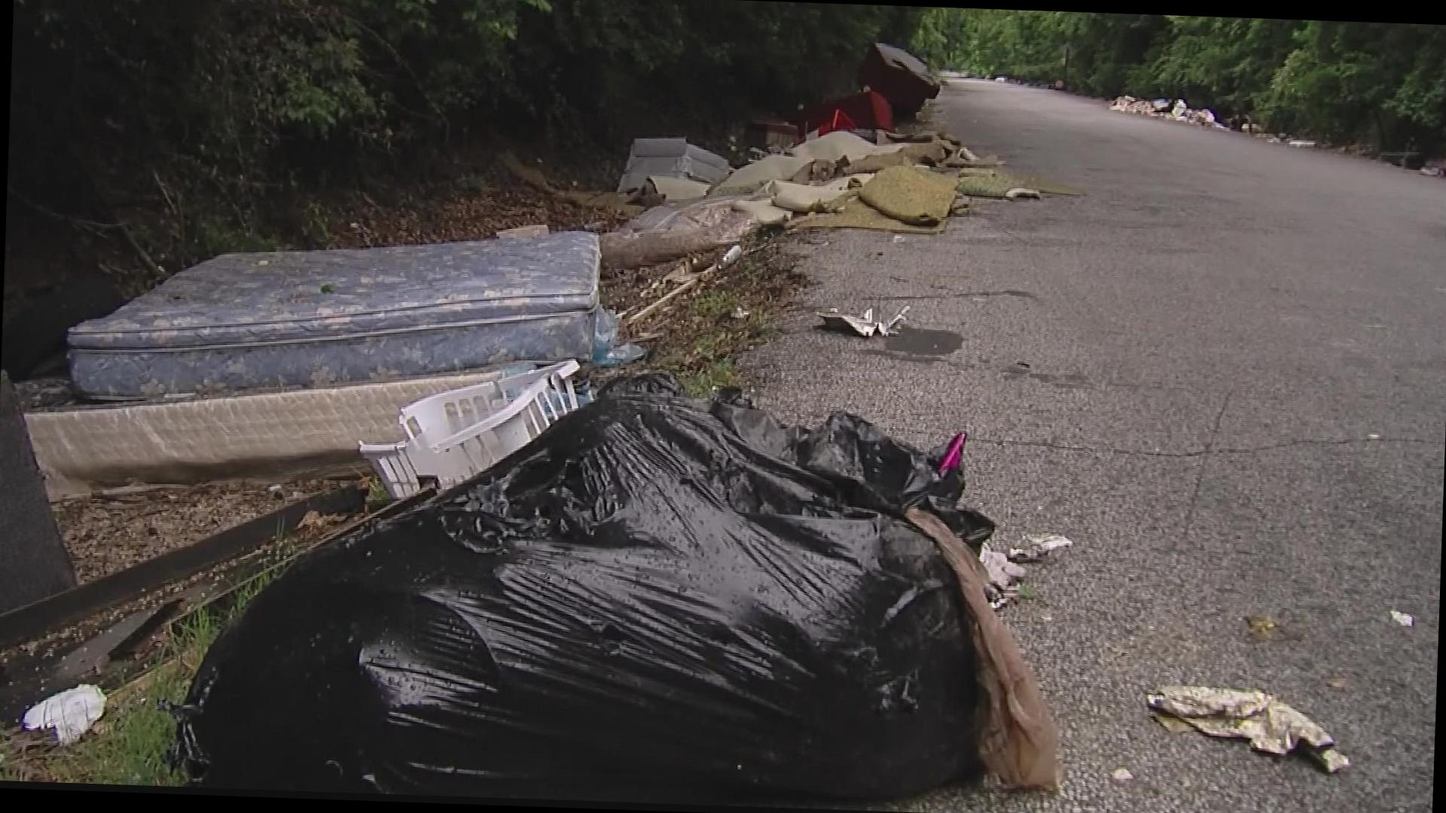road: (741, 78, 1446, 813)
trash: (180, 376, 993, 803), (599, 197, 789, 268), (618, 136, 729, 192), (859, 42, 941, 114), (860, 167, 957, 225), (791, 131, 879, 162)
